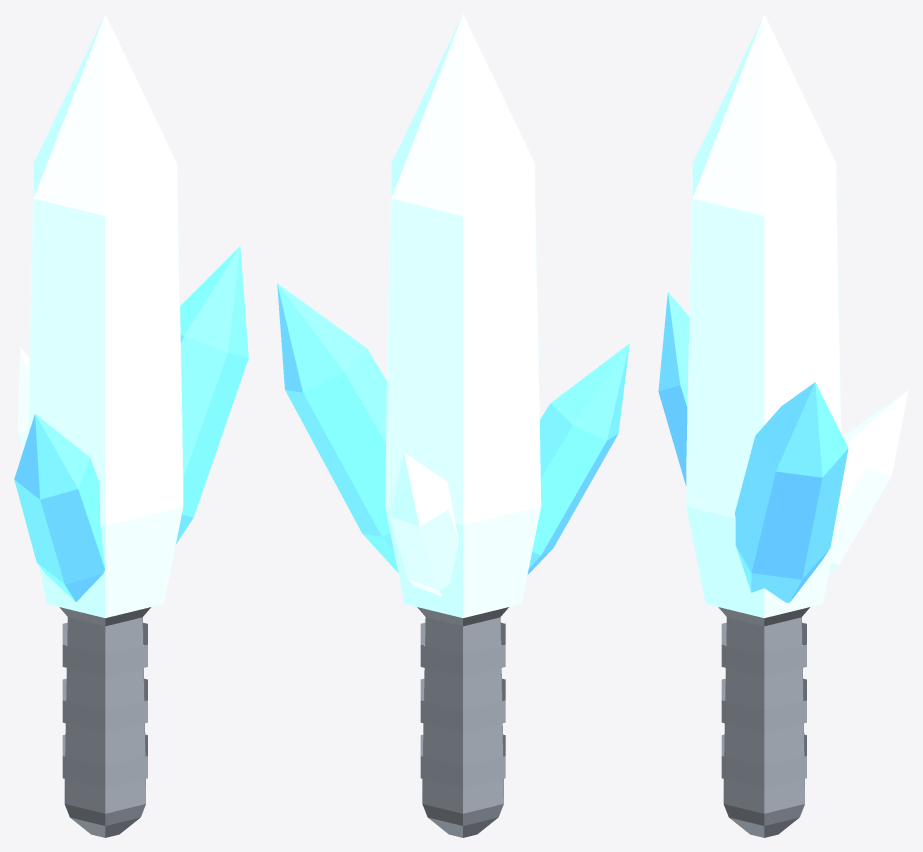
Rendered from W2_IceCrystal.fbx.
3 renders of one model, left to right at view 1: azimuth 30°, elevation 25°; view 2: azimuth 150°, elevation 25°; view 3: azimuth 270°, elevation 25°, orthographic.
Visible parts, largest first — view 1: W2_IceCrystal; view 2: W2_IceCrystal; view 3: W2_IceCrystal.
Part boxes in pixels (x1=…): W2_IceCrystal: x1=14, y1=14, x2=248, y2=837; W2_IceCrystal: x1=277, y1=14, x2=629, y2=837; W2_IceCrystal: x1=658, y1=14, x2=908, y2=837.
Bounding box in the file's own units: 15.72 × 44 × 12.21.
